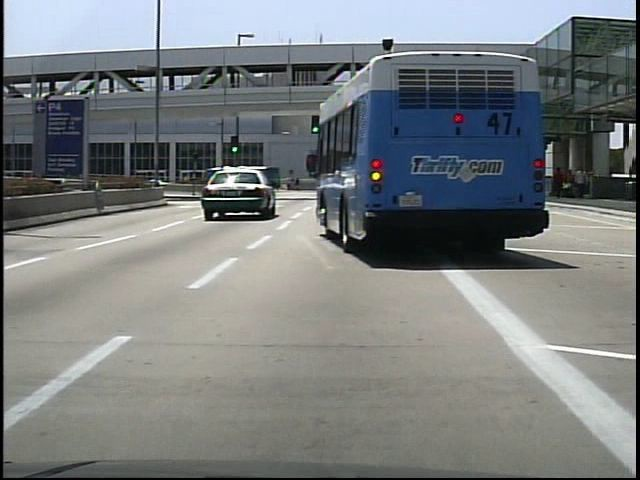person: (573, 166, 591, 200), (554, 166, 565, 200), (565, 167, 575, 199), (291, 176, 302, 194), (281, 175, 291, 192)
